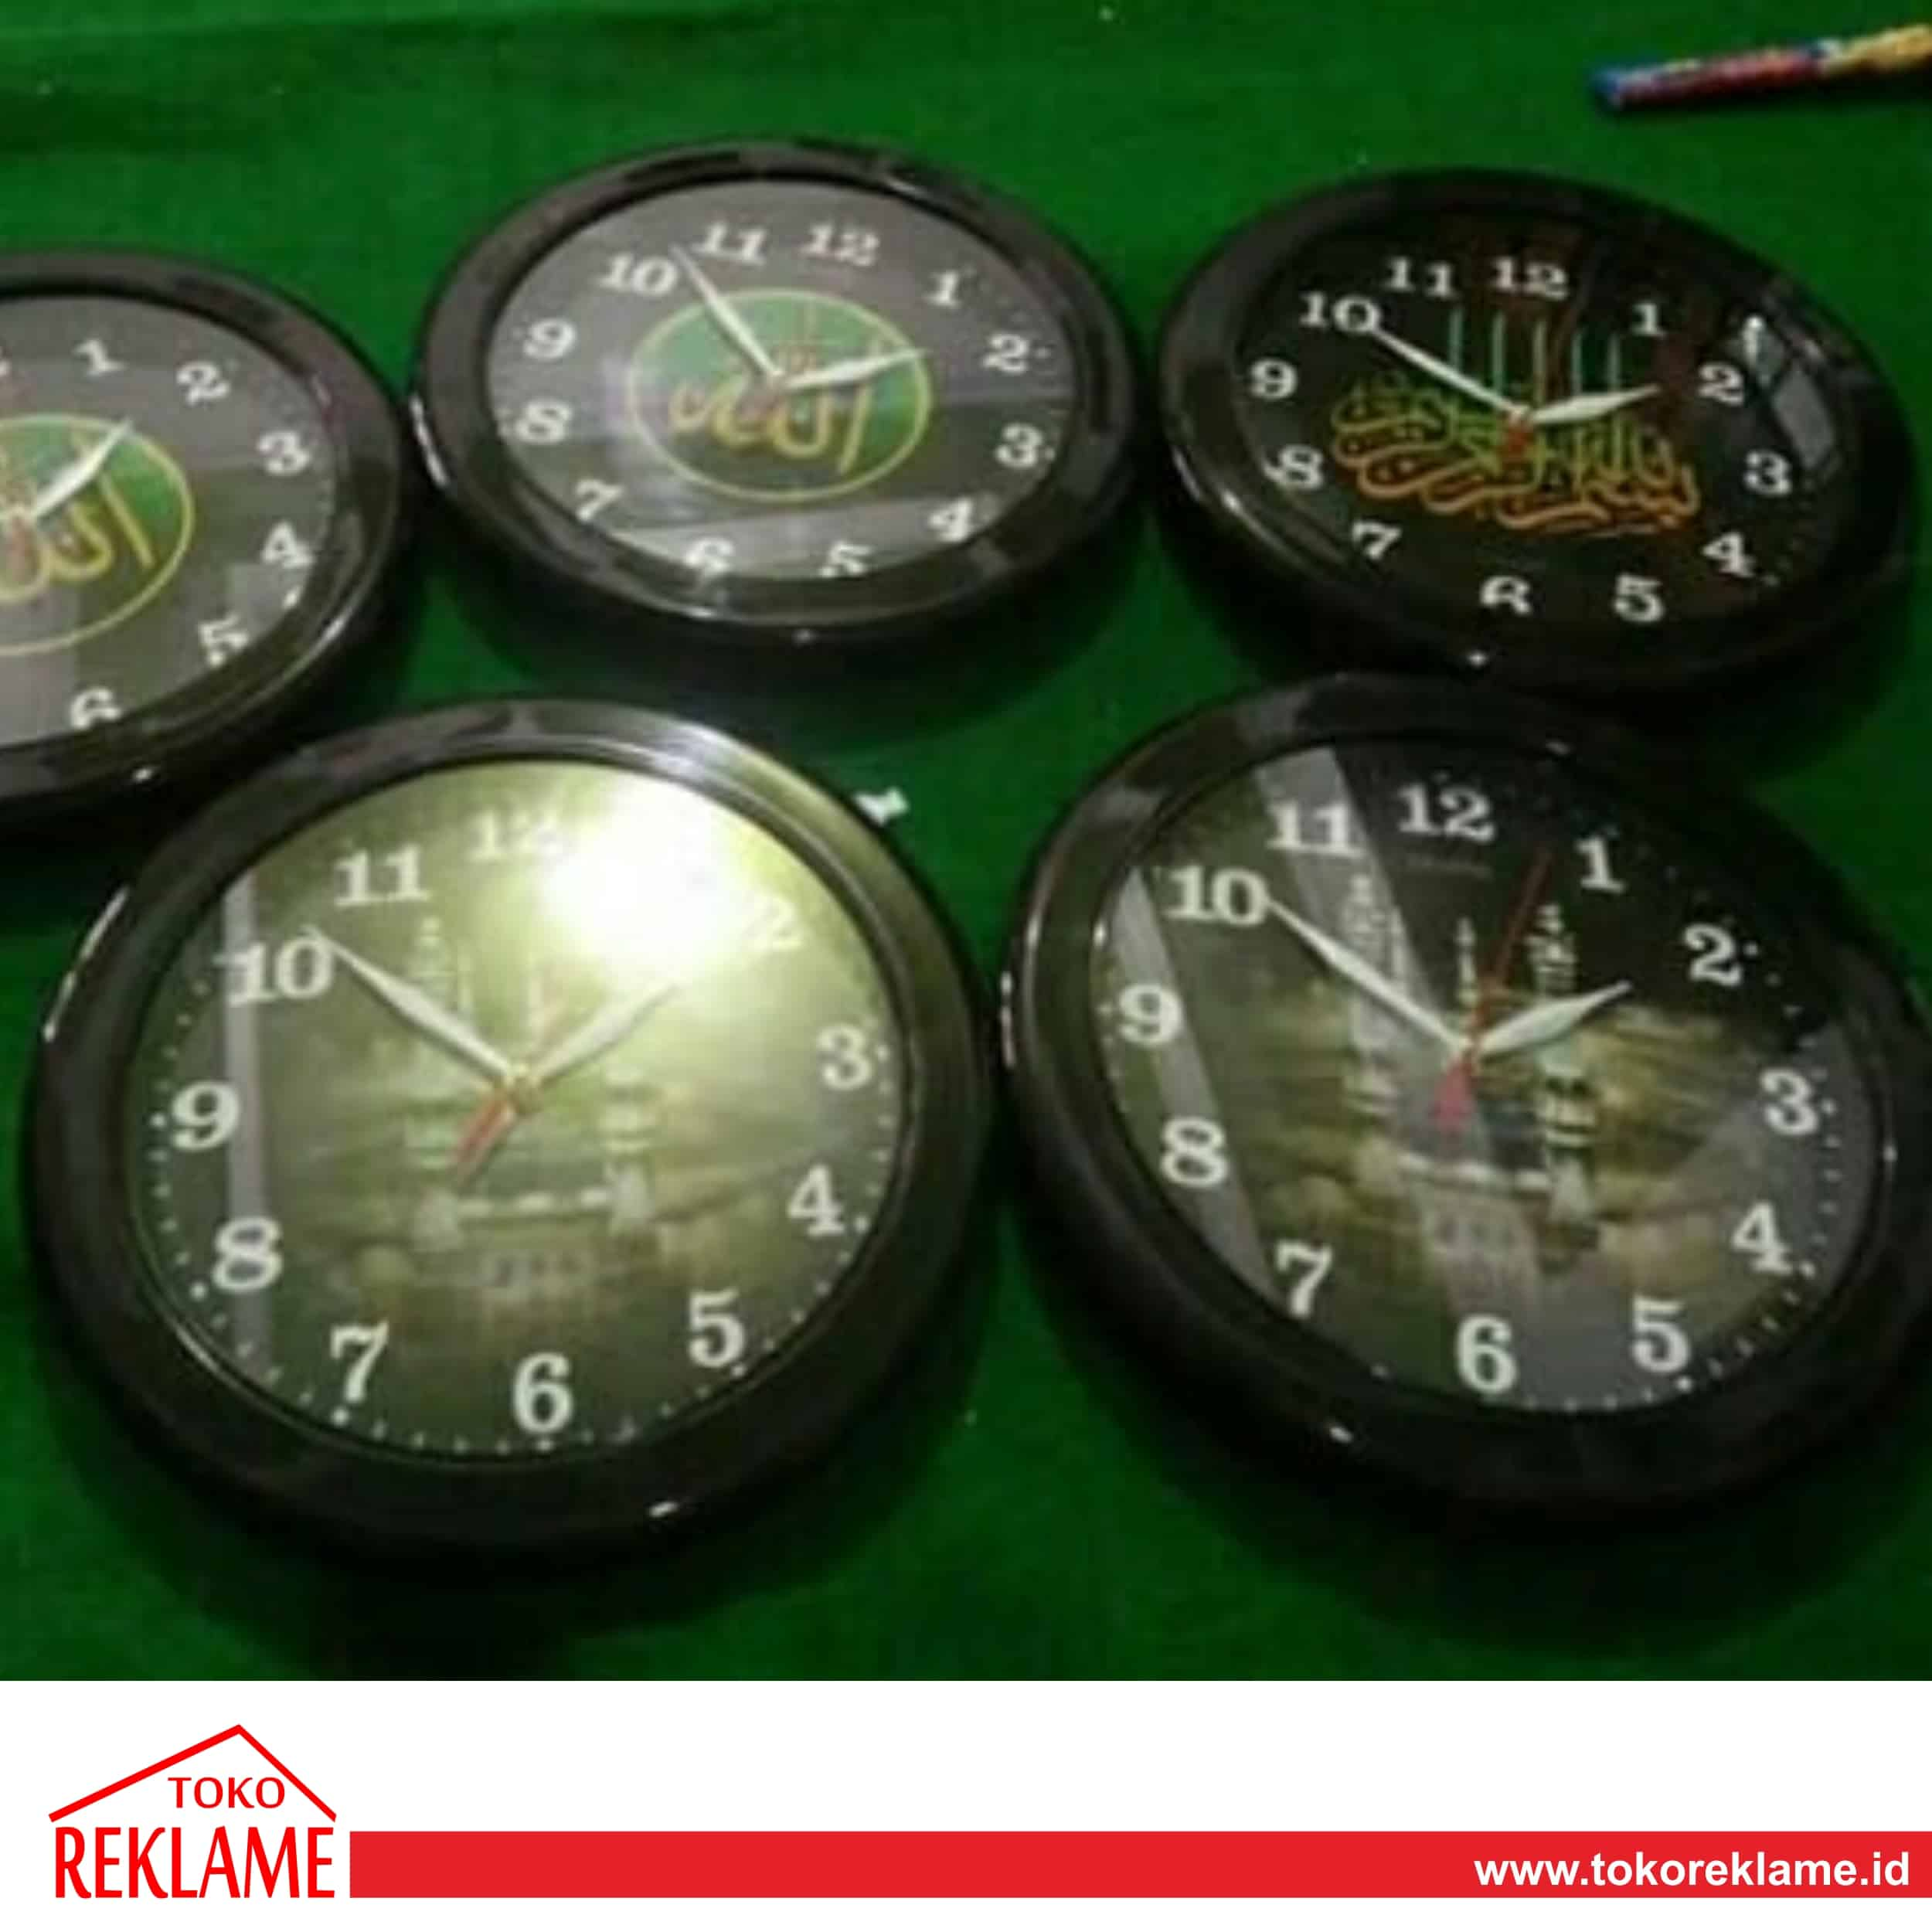jam dinding: (996, 667, 1909, 1578), (55, 702, 978, 1525), (426, 122, 1093, 709)
